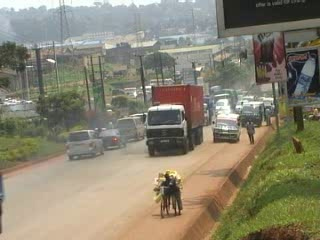Car: (64, 128, 106, 161), (97, 129, 129, 151), (214, 97, 233, 116), (234, 97, 249, 113)
